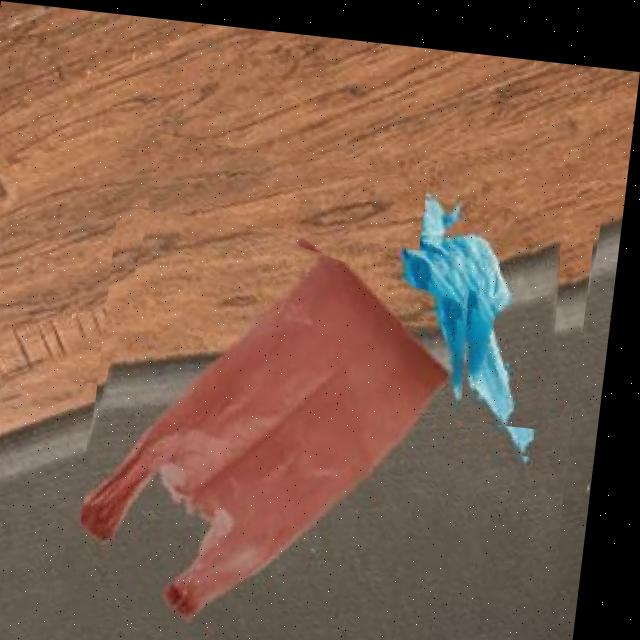litter: (78, 126, 602, 640), (83, 200, 498, 640), (408, 138, 581, 415)
